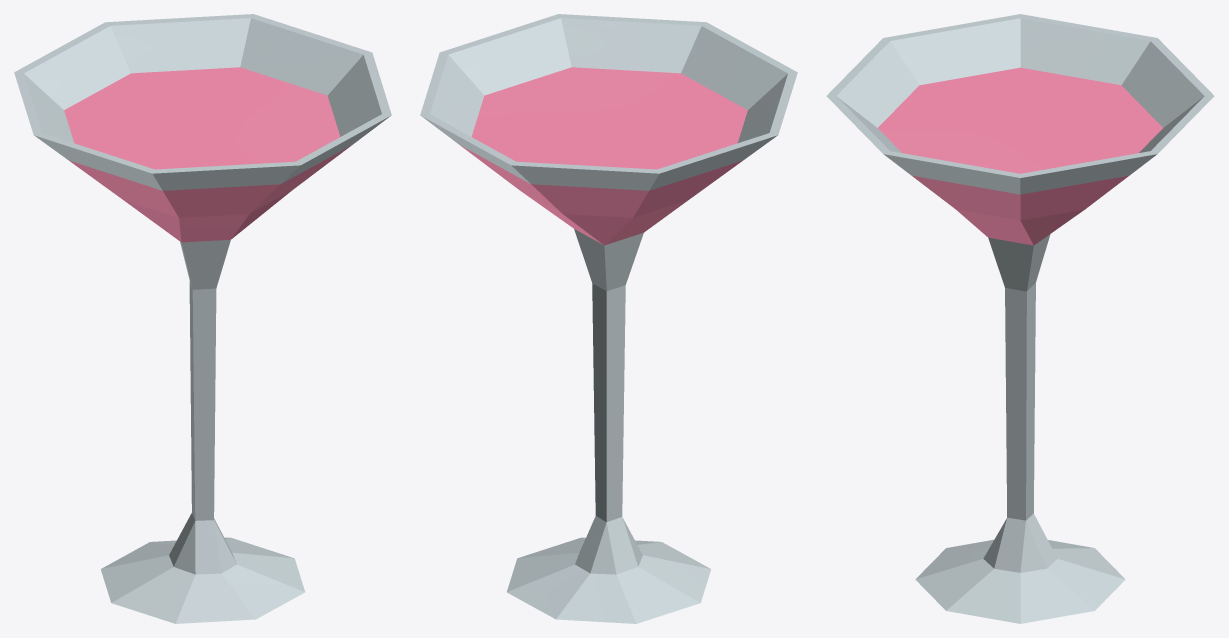
Rendered from wineglass_002.obj.
3 views of the same model, side by side, from view 1: azimuth 30°, elevation 25°; view 2: azimuth 150°, elevation 25°; view 3: azimuth 270°, elevation 25° (orthographic).
Parts seen in each view (by area): view 1: wineglass_002; view 2: wineglass_002; view 3: wineglass_002.
Boxes of the visible parts, x1,y1,x2,y2 form: wineglass_002: [14, 14, 391, 623]; wineglass_002: [420, 14, 797, 623]; wineglass_002: [826, 14, 1214, 623].
Size of the model in its own units: 0.1028 by 0.1413 by 0.1028.
